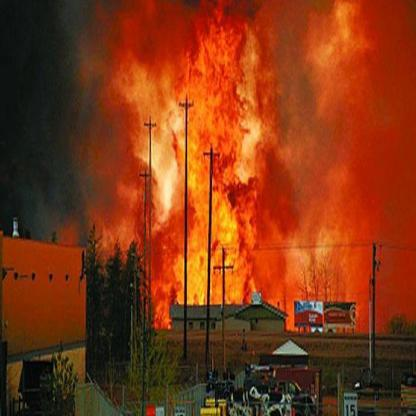fire: (124, 16, 274, 295)
